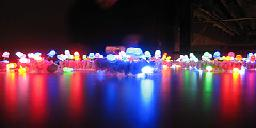LED: (7, 47, 254, 80)
